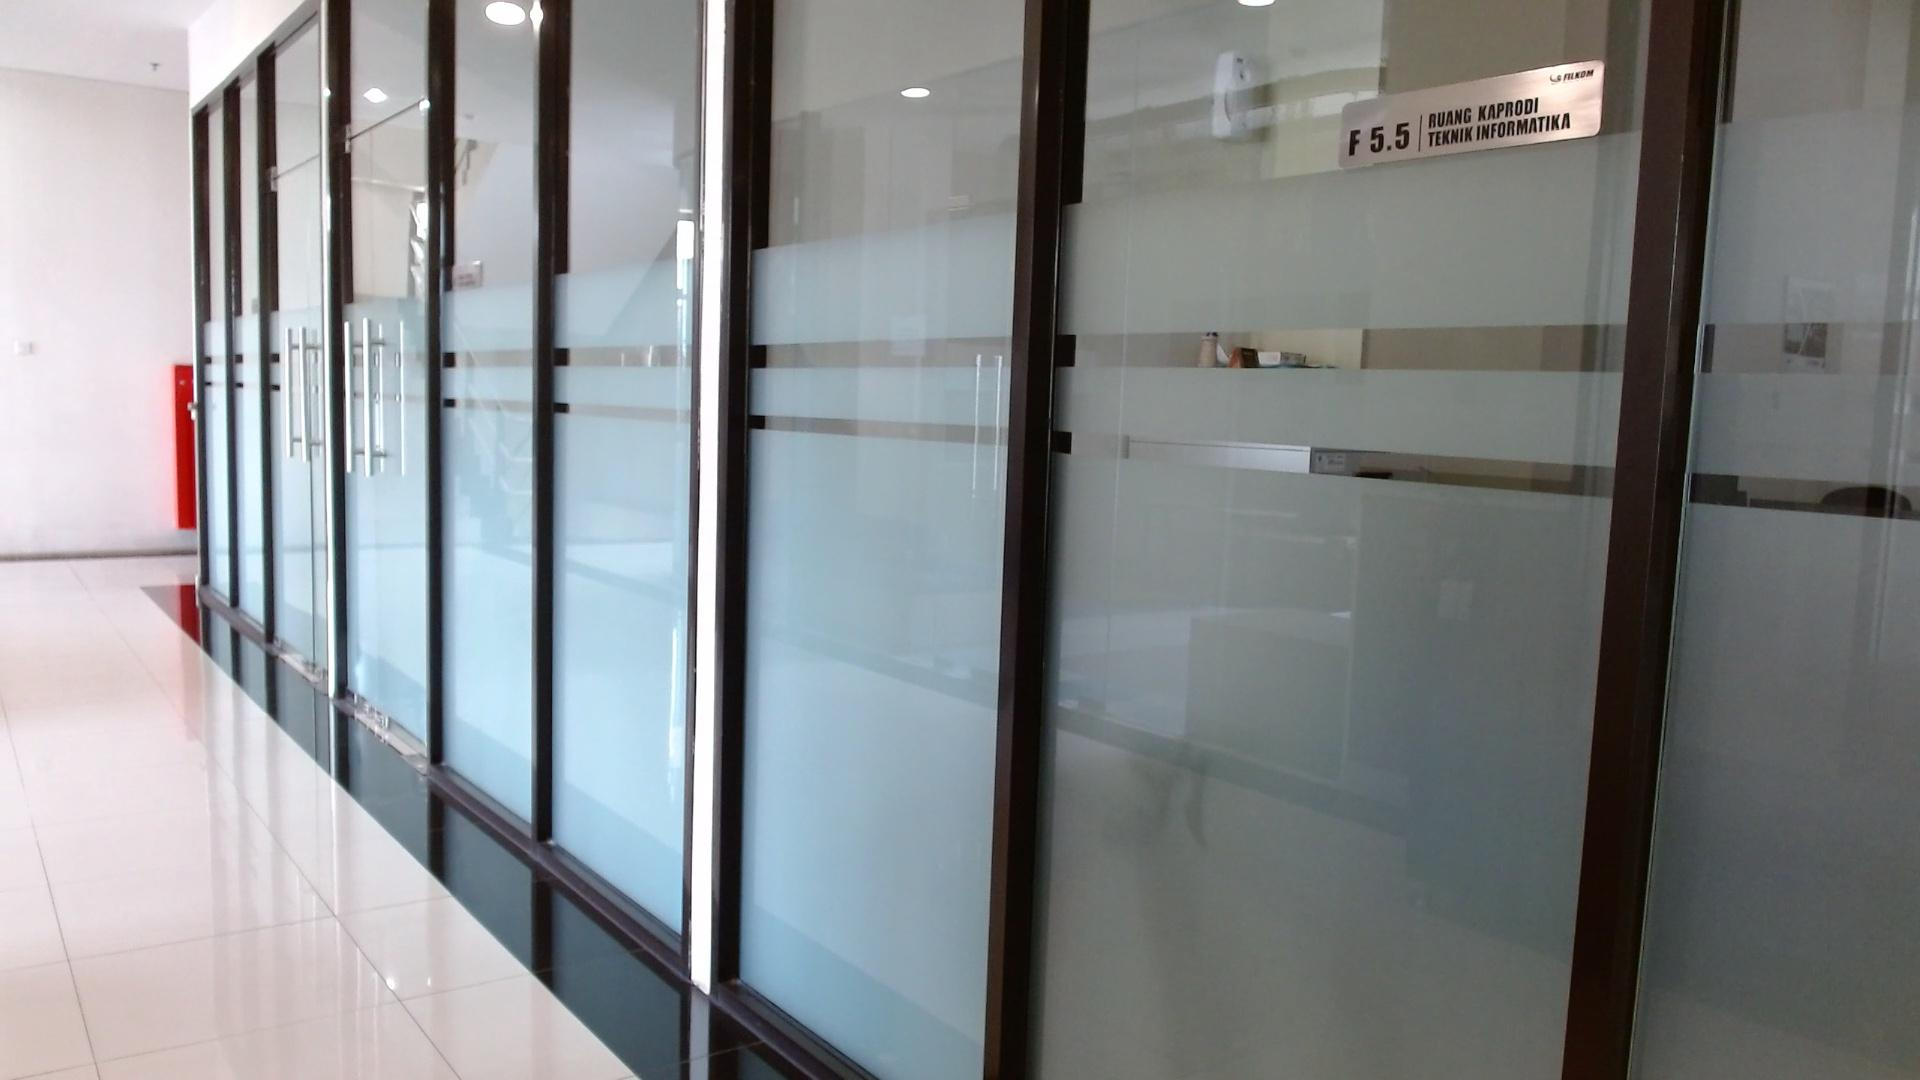plate: (1338, 57, 1606, 169)
